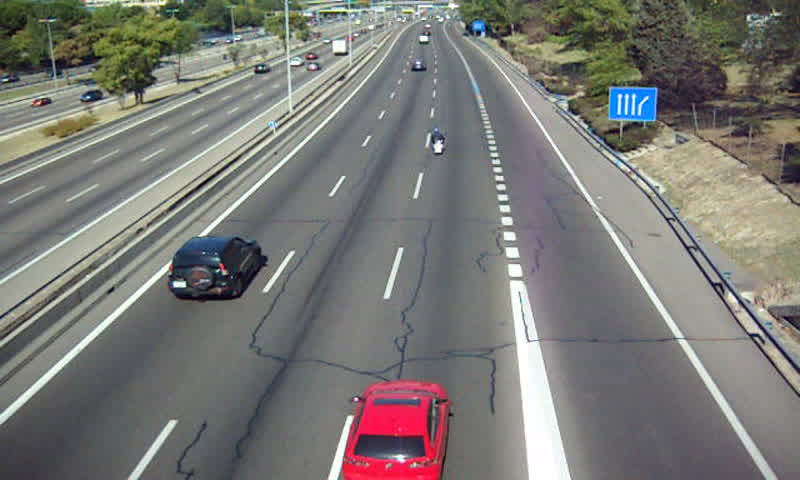car: (343, 382, 450, 480), (166, 236, 263, 299)
motorcycle: (430, 128, 446, 157)
